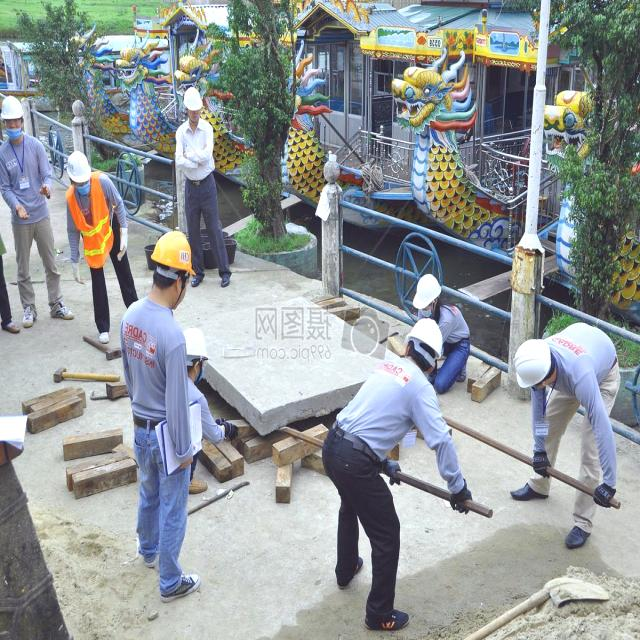face_mask: (4, 115, 25, 137)
hand_glove: (449, 480, 475, 516), (381, 455, 405, 491), (589, 481, 620, 508), (110, 224, 131, 262), (531, 451, 550, 478), (216, 414, 234, 440), (71, 255, 83, 287)
hand_noglove: (39, 178, 55, 208), (14, 199, 32, 224)
head_helmet: (150, 233, 198, 275), (405, 317, 445, 359), (517, 336, 548, 384), (407, 272, 445, 308), (1, 90, 27, 119), (184, 327, 210, 355), (67, 152, 90, 182), (180, 85, 204, 109)
person: (329, 327, 451, 633), (129, 225, 214, 600), (506, 314, 626, 548), (3, 91, 51, 325), (68, 148, 119, 323), (178, 79, 216, 279), (412, 268, 470, 374), (186, 321, 224, 471)
shoes: (158, 565, 205, 606), (360, 602, 413, 638), (562, 511, 596, 554), (332, 550, 367, 591), (46, 291, 77, 326), (508, 478, 553, 502), (18, 297, 42, 331), (96, 318, 114, 351), (188, 270, 209, 292), (218, 266, 233, 293)
vest: (88, 193, 110, 263)
